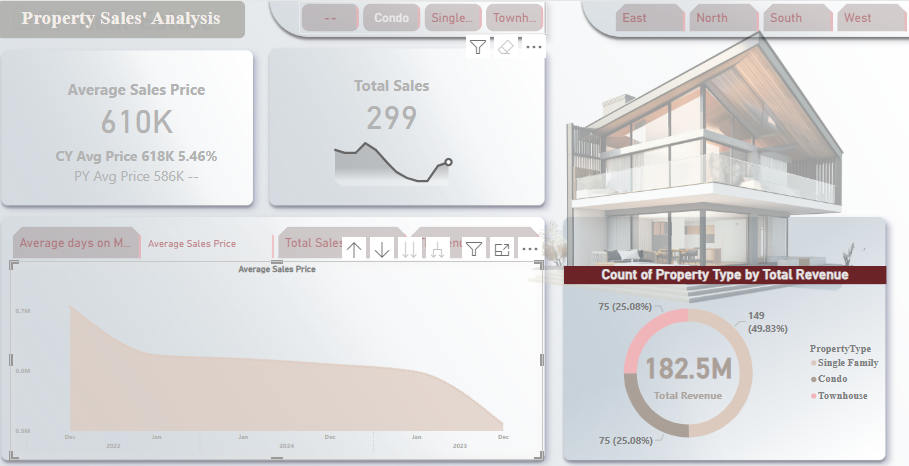

Layout of this report page (visuals, bound fields, positions):
{"tool":"powerbi","page":{"name":"Page 1","canvas":[1800,950],"ordinal":0},"visuals":[{"type":"image","box":[0,-10,1800,960],"z":0},{"type":"donutChart","title":"Count of Property Type by Total Revenue","fields":{"Category":["Property Dimension.PropertyType"],"Y":["CountNonNull(RealEstateSales.LastSaleDate)"]},"box":[1120,512,624,384],"z":0,"group":"g1"},{"type":"cardVisual","fields":{"Data":["CY Average.Average Sales Price","CY Average.Total Sales"]},"box":[48,96,984,312],"z":1000},{"type":"cardVisual","fields":{"Data":["CY Average.TRevenue"]},"box":[1240,656,240,144],"z":1000,"group":"g1"},{"type":"advancedSlicerVisual","fields":{"Values":["Line Chart Grad.Line Chart Grad"]},"box":[48,432,1032,72],"z":2000},{"type":"lineChart","fields":{"Y":["CY Average.Average days on Mrkt","CY Average.Average Sales Price","CY Average.Total Sales","CY Average.TRevenue"],"Category":["Calendar Table.Year Hierarchy.Year","Calendar Table.Year Hierarchy.Short Month Name"]},"box":[48,504,1032,384],"z":3000},{"type":"group","id":"g1","title":"Property Type","box":[1120,512,624,384],"z":4000},{"type":"advancedSlicerVisual","fields":{"Values":["Location Dimension Table.Region"]},"box":[1216,0,576,64],"z":5000},{"type":"advancedSlicerVisual","fields":{"Values":["Property Dimension.PropertyType"]},"box":[608,0,480,64],"z":6000},{"type":"textbox","box":[24,0,480,72],"z":7000}]}

Visuals, with their boxes in screenshot pixels (x1, y1, x2, y2), scaled from the page's 1800x950 canvas onto the 909x466 screenshot:
image: 0/0/908/465
"Count of Property Type by Total Revenue" donutChart: 566/251/881/440
cardVisual - CY Average.Average Sales Price x CY Average.Total Sales: 24/47/521/200
cardVisual - CY Average.TRevenue: 626/322/747/392
advancedSlicerVisual - Line Chart Grad.Line Chart Grad: 24/212/545/247
lineChart - CY Average.Average days on Mrkt x CY Average.Average Sales Price: 24/247/545/436
"Property Type" group: 566/251/881/440
advancedSlicerVisual - Location Dimension Table.Region: 614/0/905/31
advancedSlicerVisual - Property Dimension.PropertyType: 307/0/549/31
textbox: 12/0/255/35
